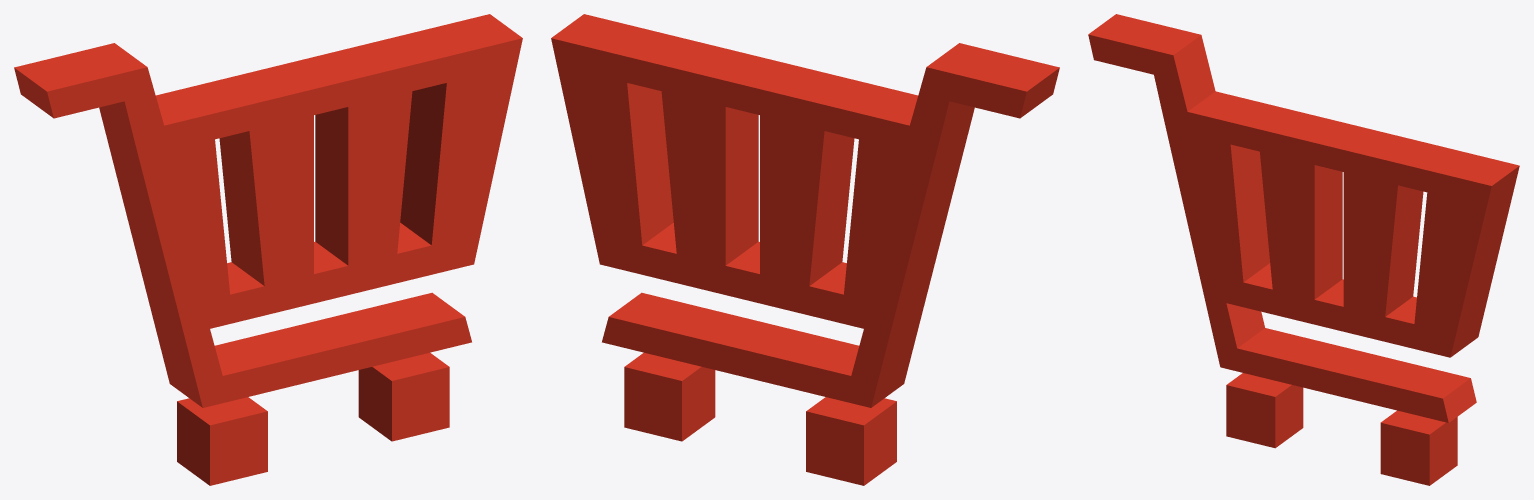
File: Icon_Trolley_02.fbx
The picture shows the model from 3 angles, left to right: view 1: azimuth 30°, elevation 25°; view 2: azimuth 150°, elevation 25°; view 3: azimuth 330°, elevation 25°; orthographic projection. The views are drawn at different scales.
Visible parts, largest first — view 1: Icon_Trolley_02; view 2: Icon_Trolley_02; view 3: Icon_Trolley_02.
Part boxes in pixels (bbox=[...]): Icon_Trolley_02: bbox=[14, 14, 522, 485]; Icon_Trolley_02: bbox=[551, 14, 1059, 485]; Icon_Trolley_02: bbox=[1088, 14, 1519, 485].
Size of the model in its own units: 81.49 by 71.02 by 9.8.
